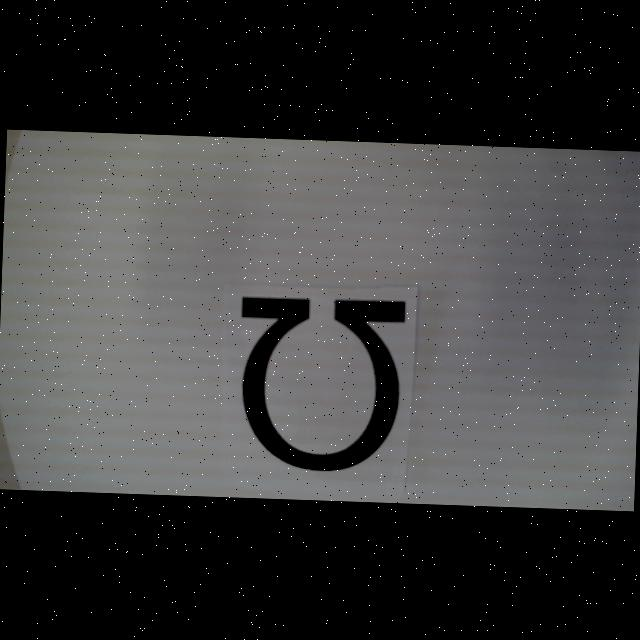OMEGA: (237, 294, 406, 473)
